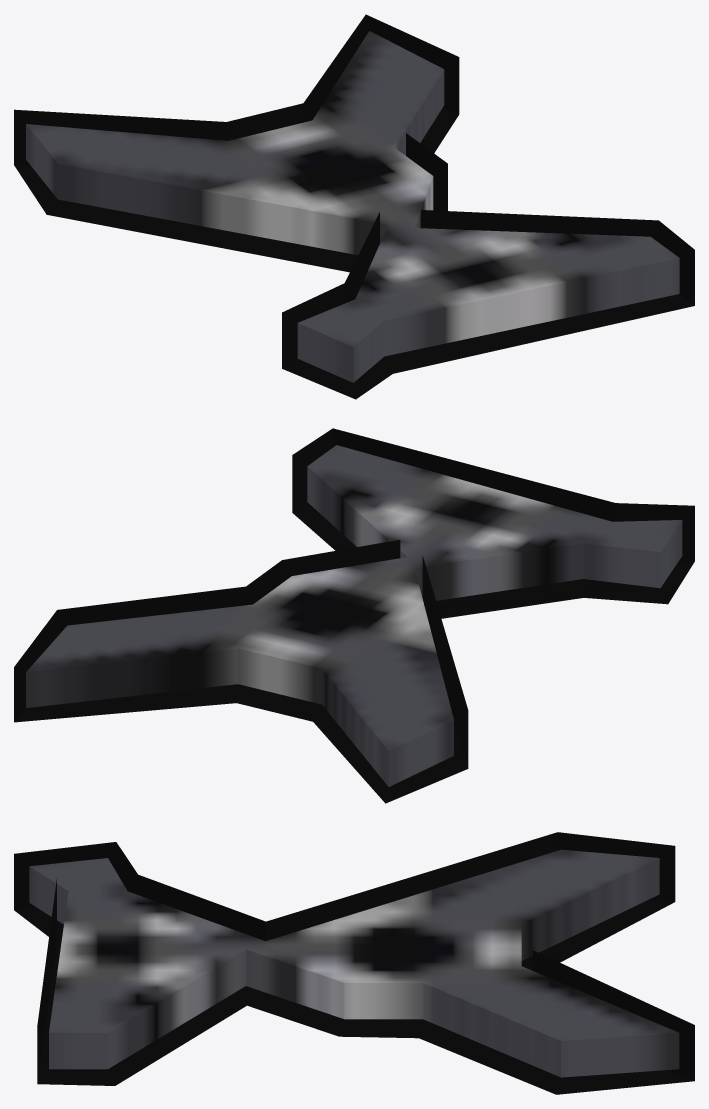
File: Item_Apparel_BodyStrap_Things_Pawn_Humanlike_Apparel_BodyStrap_BodyStrap_Thin.glb
The picture shows the model from 3 angles, top to bottom: view 1: azimuth 30°, elevation 25°; view 2: azimuth 150°, elevation 25°; view 3: azimuth 270°, elevation 25°; orthographic projection.
Parts seen in each view (by area): view 1: Body, Outline; view 2: Body, Outline; view 3: Body, Outline.
Part boxes in pixels (left/top/right/bottom): Body: left=26, top=31, right=679, bottom=382; Outline: left=14, top=14, right=694, bottom=399; Body: left=26, top=445, right=682, bottom=786; Outline: left=14, top=428, right=694, bottom=803; Body: left=29, top=849, right=679, bottom=1077; Outline: left=14, top=832, right=694, bottom=1094.
Bounding box in the file's own units: 0.1915 × 0.0302 × 0.27.
Materials: 2 (1 with a texture image).
